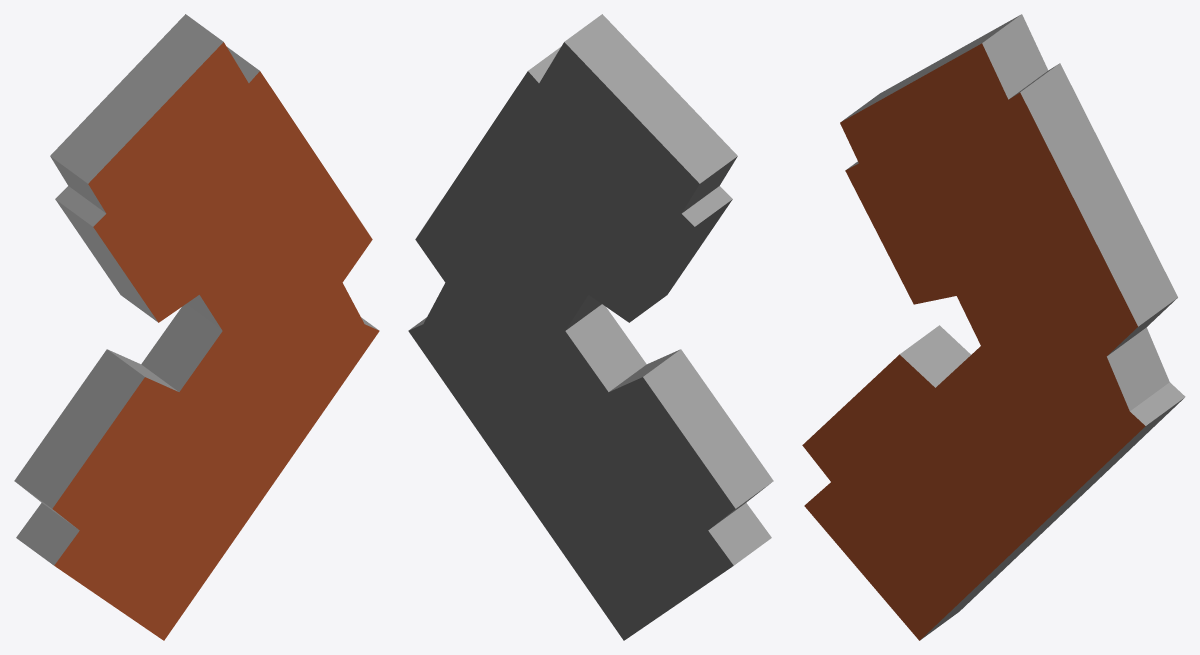
File: construction_4462_assumed_A_Casa_h6m.obj
The picture shows the model from 3 angles, left to right: view 1: azimuth 30°, elevation 25°; view 2: azimuth 150°, elevation 25°; view 3: azimuth 330°, elevation 25°; orthographic projection. The views are drawn at different scales.
Parts seen in each view (by area): view 1: construction_4462_assumed_A_Casa; view 2: construction_4462_assumed_A_Casa; view 3: construction_4462_assumed_A_Casa.
Part boxes in pixels (x1,y1,x2,y2): construction_4462_assumed_A_Casa: (14, 14, 379, 640); construction_4462_assumed_A_Casa: (408, 14, 773, 640); construction_4462_assumed_A_Casa: (802, 14, 1185, 640).
Bounding box in the file's own units: 29.75 × 50.74 × 6.
